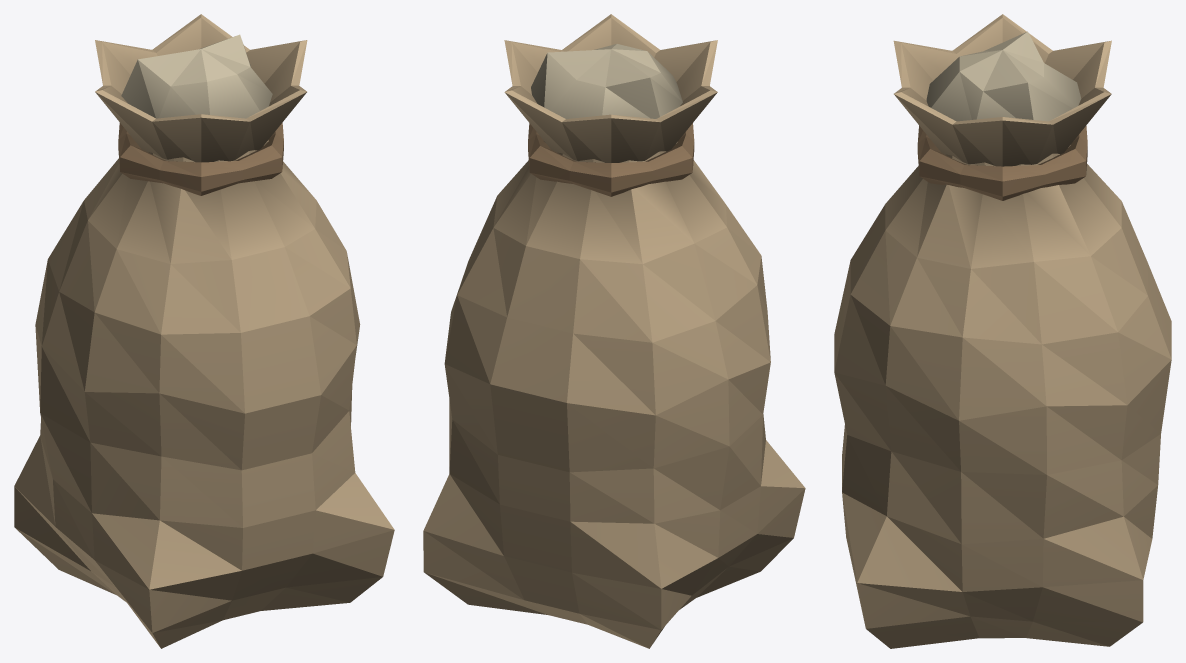
The model's file is sack.glb.
The picture shows the model from 3 angles, left to right: view 1: azimuth 30°, elevation 25°; view 2: azimuth 150°, elevation 25°; view 3: azimuth 270°, elevation 25°; orthographic projection. The views are drawn at different scales.
Parts seen in each view (by area): view 1: sack; view 2: sack; view 3: sack.
Part boxes in pixels (x1,y1,x2,y2): sack: (14, 14, 394, 648); sack: (423, 14, 805, 648); sack: (834, 14, 1171, 648).
Bounding box in the file's own units: 0.3805 × 0.7 × 0.388.
